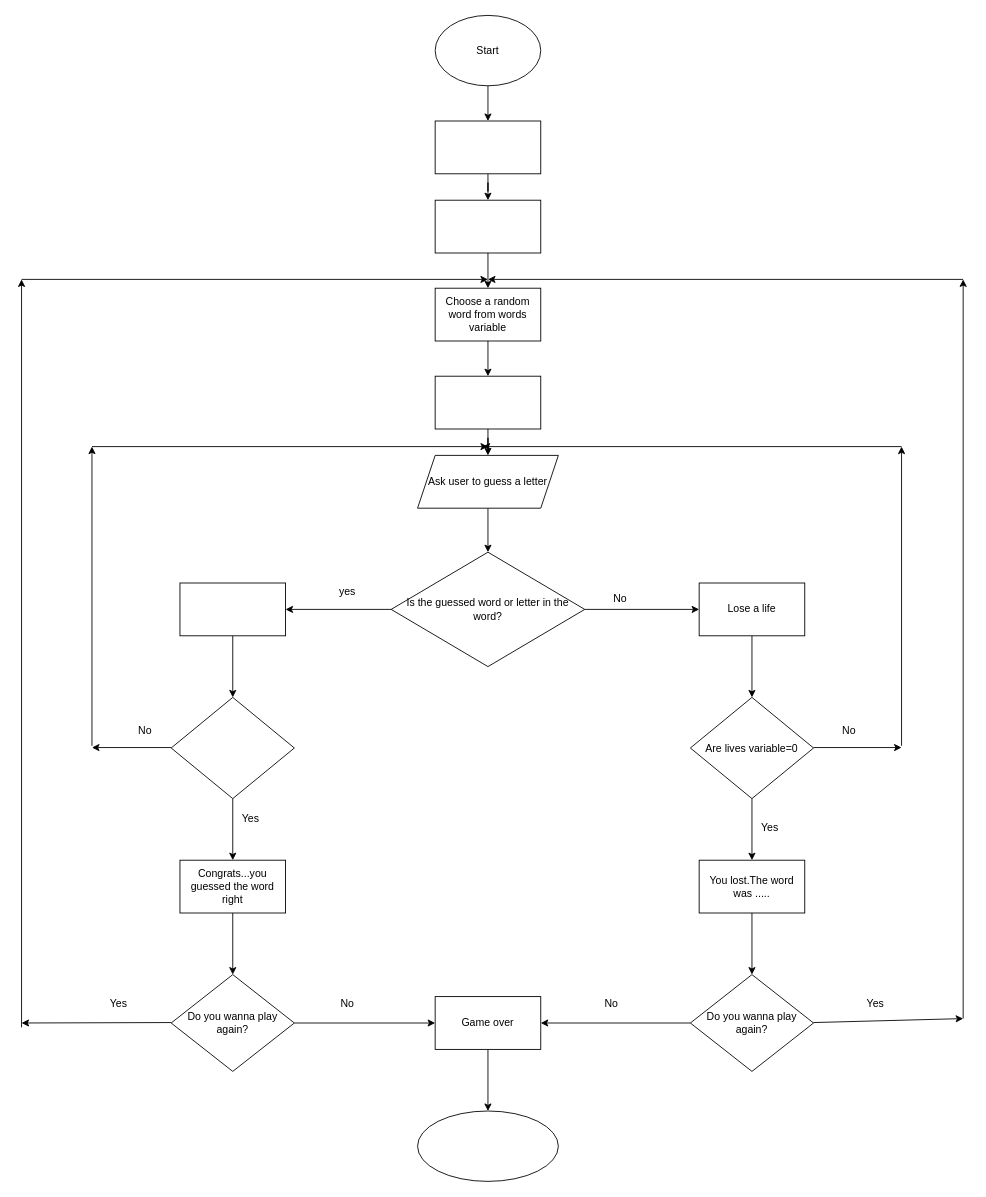
Image size: 986x1197. Some labels were removed from this diagram. Each missing label, with the box of its shape:
Are the all blanks filled?: (170, 697, 294, 799)
Create a lives variable and determine how many lives you have: (434, 120, 541, 174)
Create a words variable and add words inside that variable: (434, 199, 541, 253)
Generate as many blanks (_) as letters in word: (434, 375, 541, 429)
Replace the blank (_) with that letter: (179, 582, 286, 636)
Stop: (417, 1110, 558, 1181)
